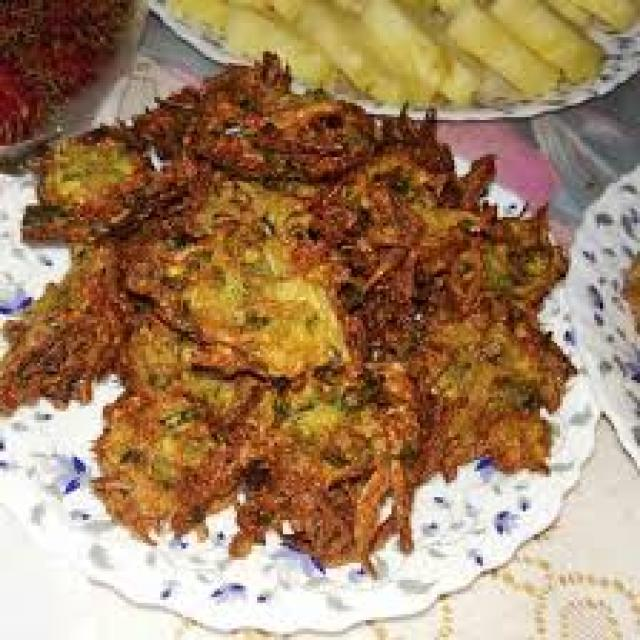BAJI: (0, 54, 580, 617)
